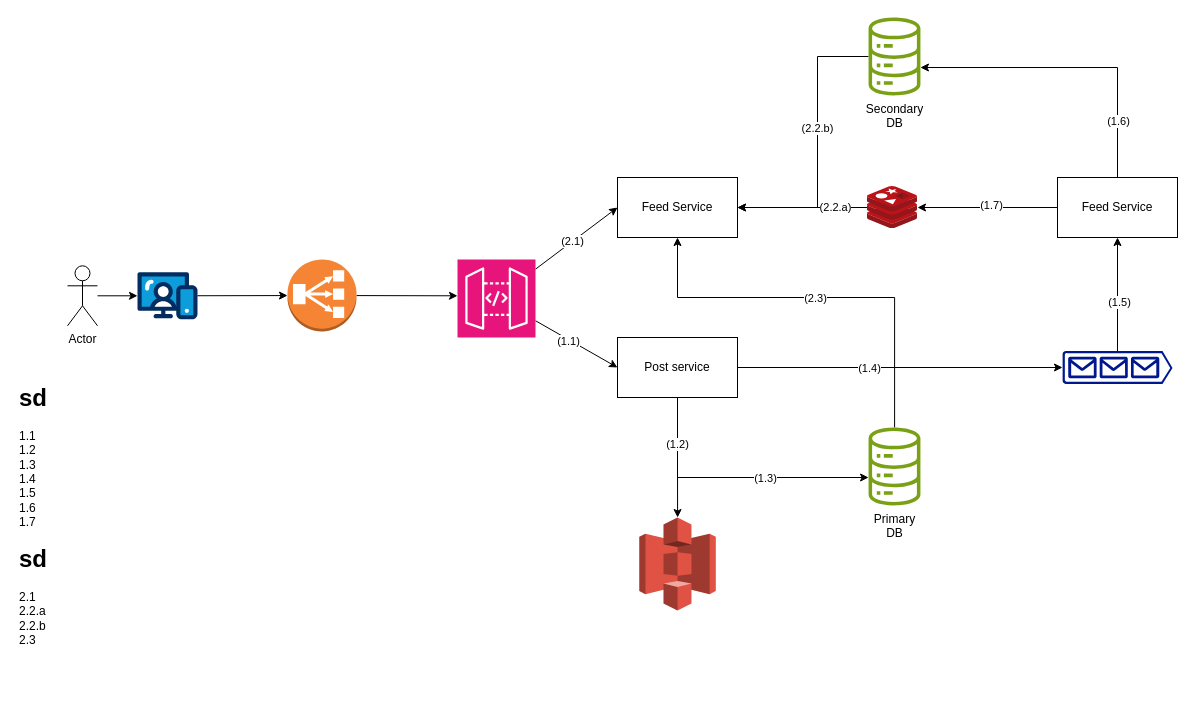
This 1195x719 diagram has some shape labels left out. The box of each missing label's shape, as (x1, y1, x2, y2) in pixels:
Cache: (867, 186, 917, 228)
MQ: (1062, 350, 1172, 384)
S3 Storage: (638, 516, 716, 610)
